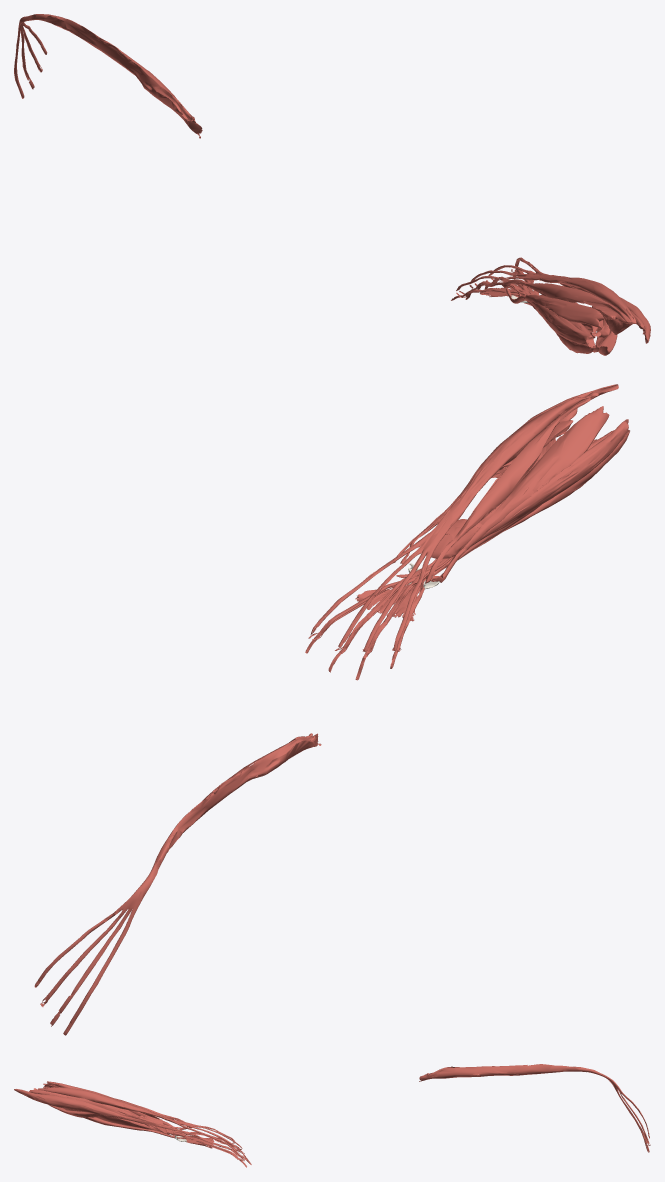
The model's file is forearmm.glb.
3 renders of one model, top to bottom at view 1: azimuth 30°, elevation 25°; view 2: azimuth 150°, elevation 25°; view 3: azimuth 270°, elevation 25°, orthographic. The views are drawn at different scales.
Parts seen in each view (by area): view 1: left extensor digitorum longus, left extensor digitorum, left extensor carpi ulnaris, ulnar head of left flexor carpi ulnaris, humeral head of left flexor carpi ulnaris, left flexor digitorum profundus, left flexor digitorum superficialis, left palmaris longus, left supinator; view 2: left extensor digitorum longus, left extensor digitorum, ulnar head of left flexor carpi ulnaris, humeral head of left flexor carpi ulnaris, left extensor carpi ulnaris, left flexor digitorum profundus, left palmaris longus, left flexor digitorum superficialis; view 3: left extensor digitorum longus, left extensor digitorum, left extensor carpi radialis longus, left extensor carpi radialis brevis, left flexor digitorum profundus, left flexor digitorum superficialis, left flexor carpi radialis, left flexor digitorum superficialis (2), humeral head of left pronator teres, ulnar head of left flexor carpi ulnaris, left palmaris longus.
Part boxes in pixels (bbox=[...]): left extensor digitorum longus: bbox=[14, 14, 202, 138]; left extensor digitorum: bbox=[456, 257, 636, 323]; left extensor carpi ulnaris: bbox=[501, 279, 632, 322]; ulnar head of left flexor carpi ulnaris: bbox=[524, 294, 604, 327]; humeral head of left flexor carpi ulnaris: bbox=[505, 287, 592, 344]; left flexor digitorum profundus: bbox=[451, 269, 597, 333]; left flexor digitorum superficialis: bbox=[456, 269, 595, 348]; left palmaris longus: bbox=[480, 279, 593, 353]; left supinator: bbox=[592, 305, 642, 334]; left extensor digitorum longus: bbox=[34, 733, 321, 1035]; left extensor digitorum: bbox=[310, 397, 587, 651]; ulnar head of left flexor carpi ulnaris: bbox=[463, 406, 609, 550]; humeral head of left flexor carpi ulnaris: bbox=[426, 421, 628, 582]; left extensor carpi ulnaris: bbox=[425, 397, 590, 583]; left flexor digitorum profundus: bbox=[305, 459, 539, 680]; left palmaris longus: bbox=[355, 430, 629, 621]; left flexor digitorum superficialis: bbox=[308, 430, 629, 654]; left extensor digitorum longus: bbox=[419, 1064, 650, 1152]; left extensor digitorum: bbox=[38, 1087, 244, 1159]; left extensor carpi radialis longus: bbox=[14, 1089, 189, 1134]; left extensor carpi radialis brevis: bbox=[29, 1089, 190, 1128]; left flexor digitorum profundus: bbox=[123, 1109, 251, 1167]; left flexor digitorum superficialis: bbox=[43, 1086, 245, 1160]; left flexor carpi radialis: bbox=[83, 1117, 188, 1138]; left flexor digitorum superficialis (2): bbox=[96, 1115, 161, 1131]; humeral head of left pronator teres: bbox=[34, 1088, 101, 1117]; ulnar head of left flexor carpi ulnaris: bbox=[46, 1081, 160, 1119]; left palmaris longus: bbox=[156, 1130, 214, 1148].
Bounding box in the file's own units: 218 × 178 × 1169.
